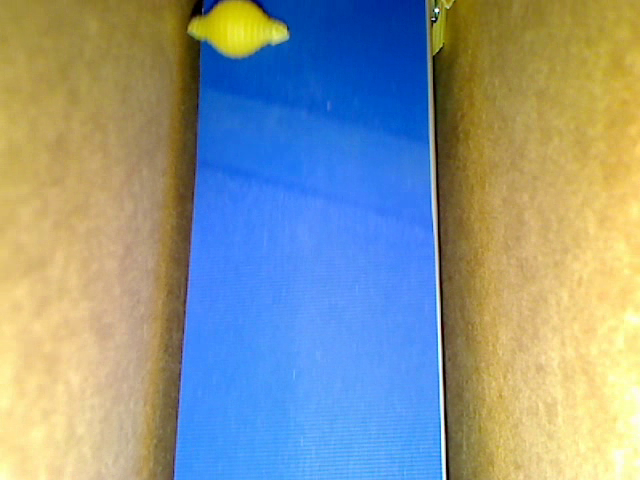penne: (425, 1, 446, 58), (438, 1, 456, 15)
shell: (185, 1, 289, 59)
